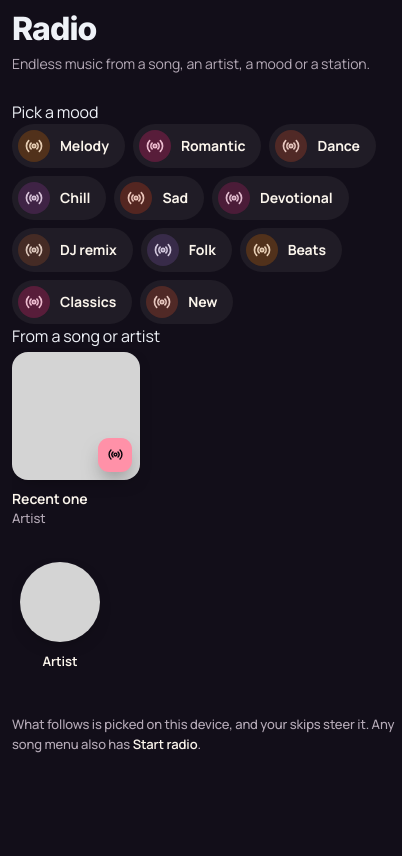
Scenario: Radio page › a recent song starts radio from that song
The image size is (402, 856).
Click the button with aria-label "Start radio from Recent one": click(76, 440) left=12, top=352, right=140, bottom=528
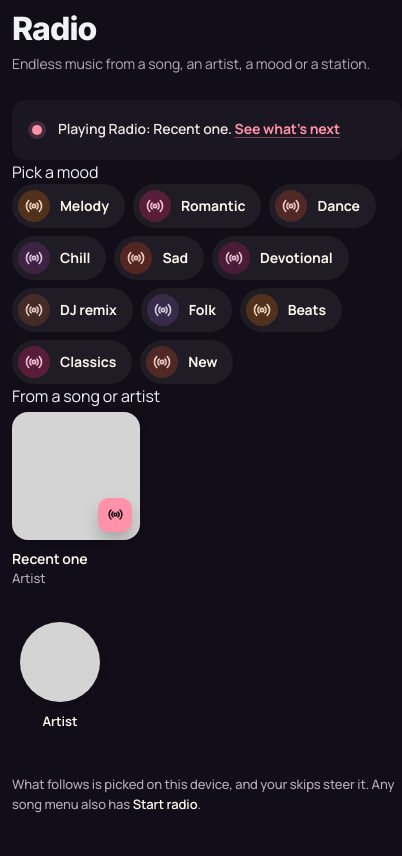
Expected: the text "Playing Radio: Recent one. See what’s next" is shown, left=58, top=119, right=340, bottom=138
